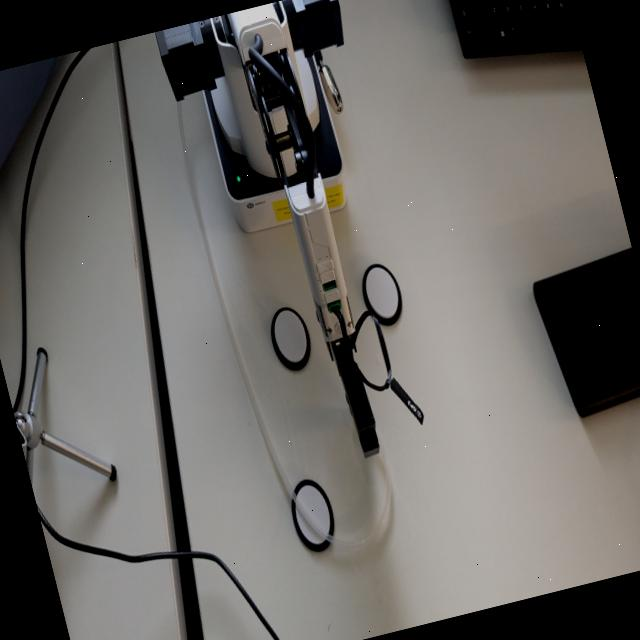Robot-end-effector-HF8z: (334, 354, 389, 468)
